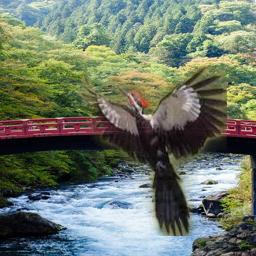Woodpecker: (81, 66, 227, 236)
